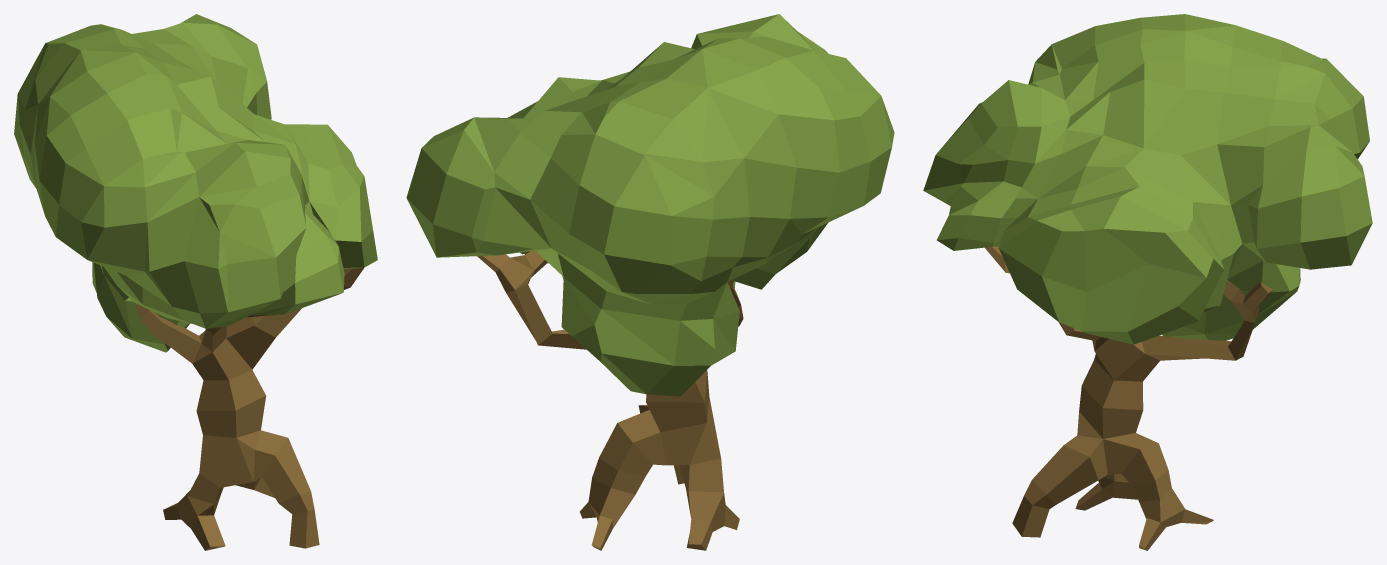
File: large tree 2.fbx
3 renders of one model, left to right at view 1: azimuth 30°, elevation 25°; view 2: azimuth 150°, elevation 25°; view 3: azimuth 270°, elevation 25°, orthographic. The views are drawn at different scales.
Visible parts, largest first — view 1: large tree_LOD0; view 2: large tree_LOD0; view 3: large tree_LOD0.
Boxes of the visible parts, x1=… form: large tree_LOD0: x1=14, y1=14, x2=377, y2=550; large tree_LOD0: x1=406, y1=14, x2=894, y2=550; large tree_LOD0: x1=923, y1=14, x2=1372, y2=550.
Size of what is drawn, in the model's own units: 7.14 by 10.28 by 8.99.
